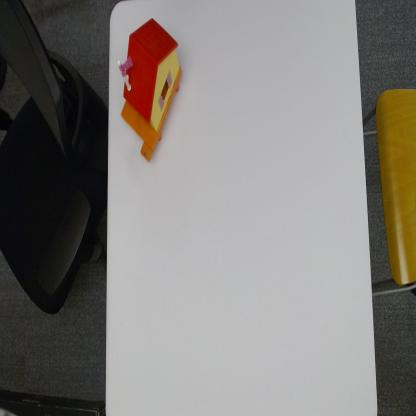House: (119, 17, 182, 164)
